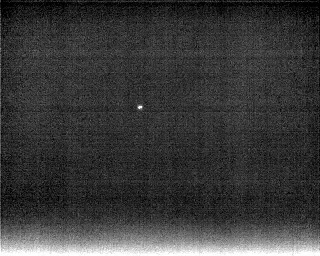BIRD: (136, 102, 144, 111)
